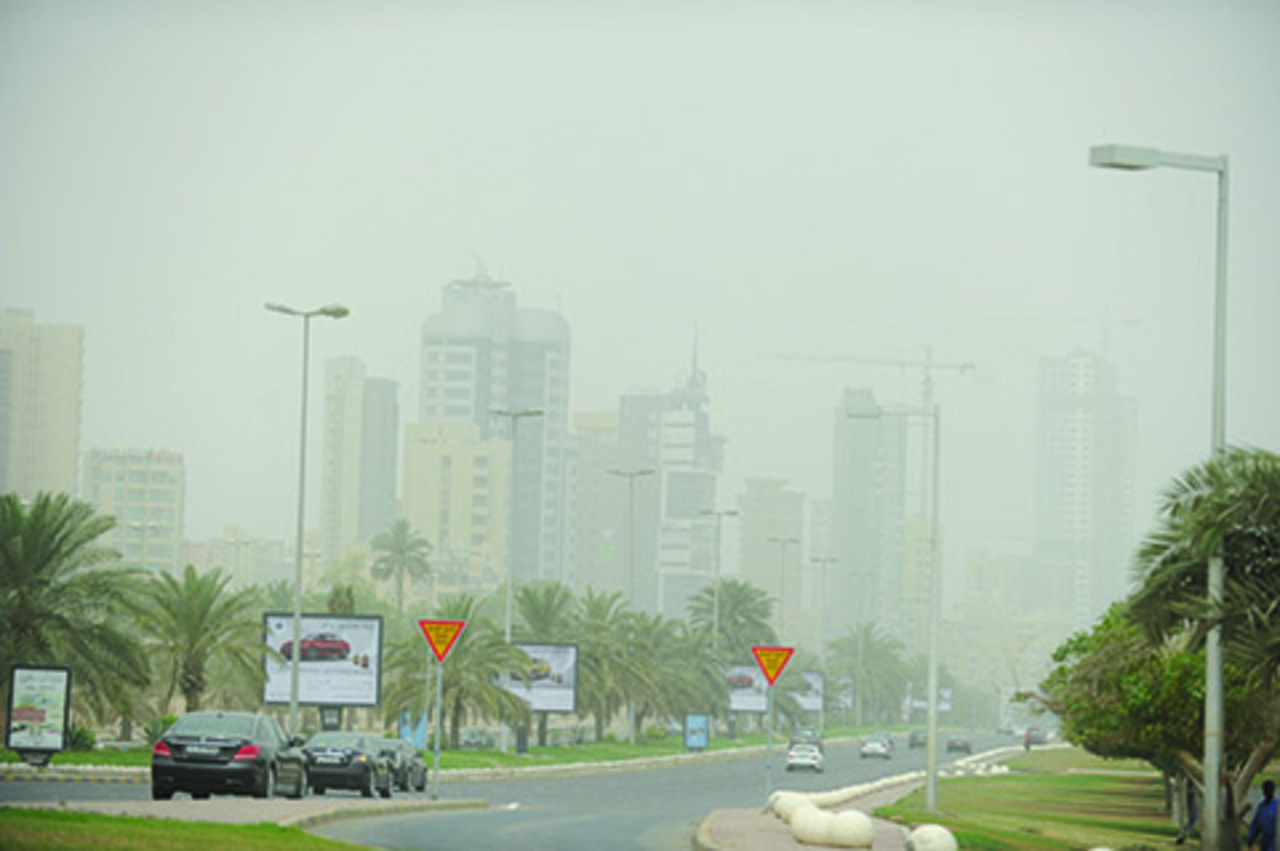car: (147, 712, 301, 802), (303, 734, 391, 802), (389, 734, 428, 800), (786, 745, 823, 775), (860, 738, 894, 759)
person: (1246, 777, 1279, 844)
